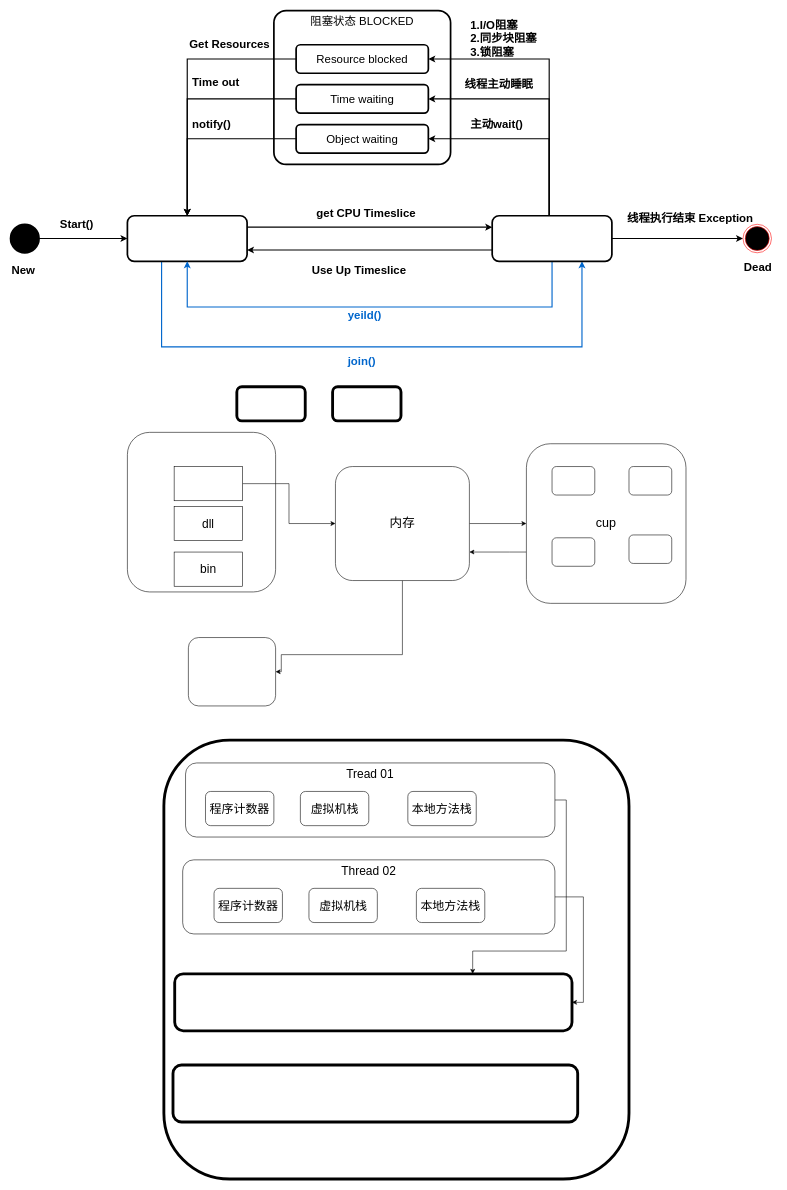
This 787x1190 diagram has some shape labels left out. The centre of each missing label's shape, as x and y in pixels:
exe: the point at 208,483
堆内存: the point at 373,1002
就绪状态 RUNNABLE: the point at 187,238
方法区: the point at 375,1093
运行状态 RUNNING: the point at 551,238
